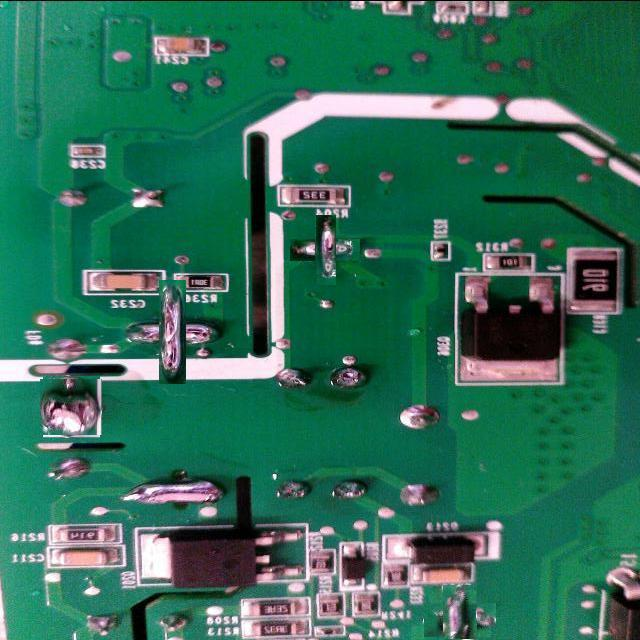Short_circuit: (140, 299, 206, 365), (42, 377, 101, 437), (433, 594, 486, 640), (302, 228, 348, 274)
